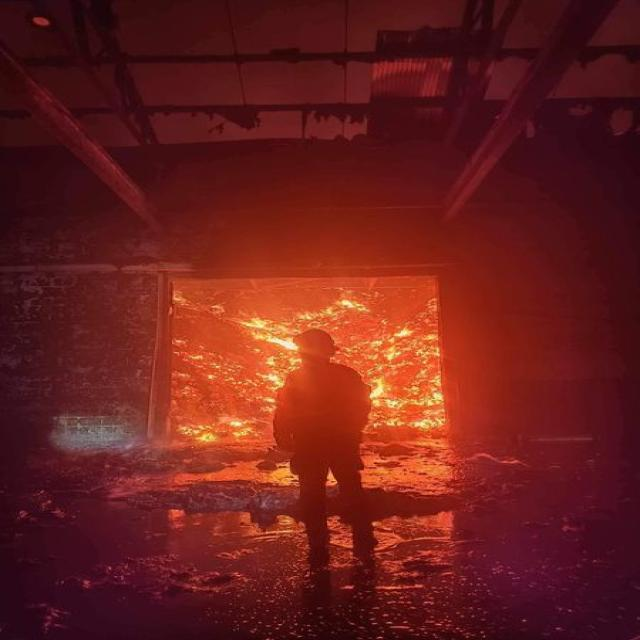Fire: (170, 290, 268, 440), (374, 294, 445, 445), (235, 276, 392, 323)
